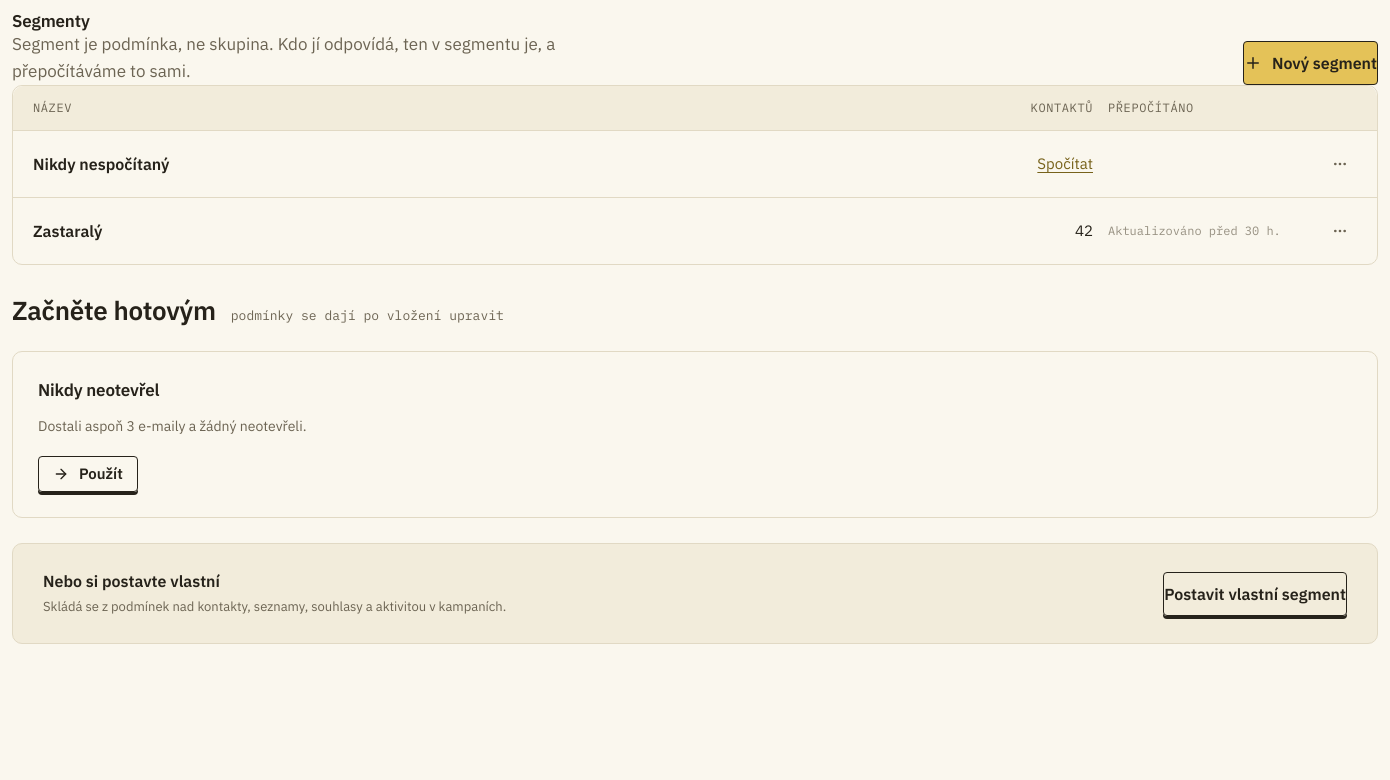
Test case: SegmentList › chyba se ohlásí, ne spolkne
Click the button "Spočítat": (1065, 164) [1037,152,1093,176]
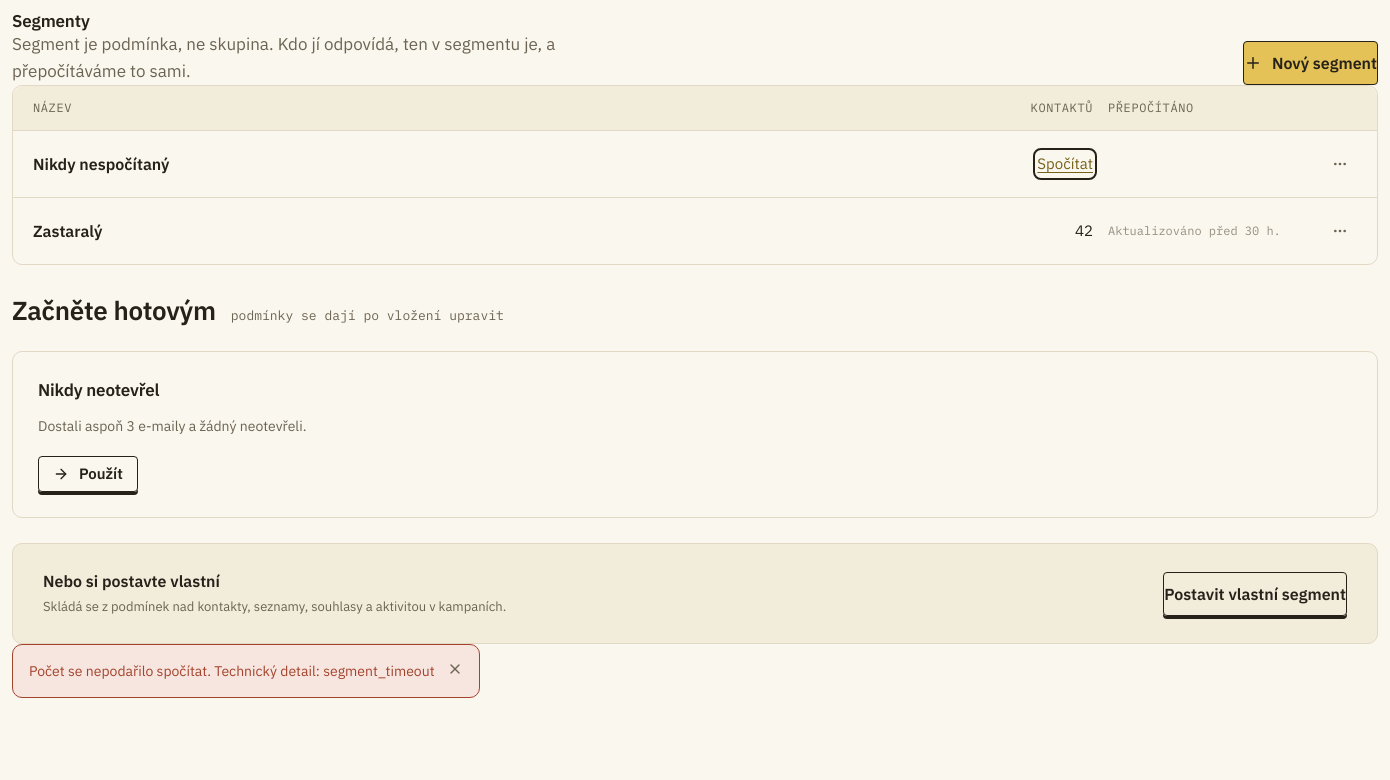
Expected: the message shows "segment_timeout", [29,662,435,680]
